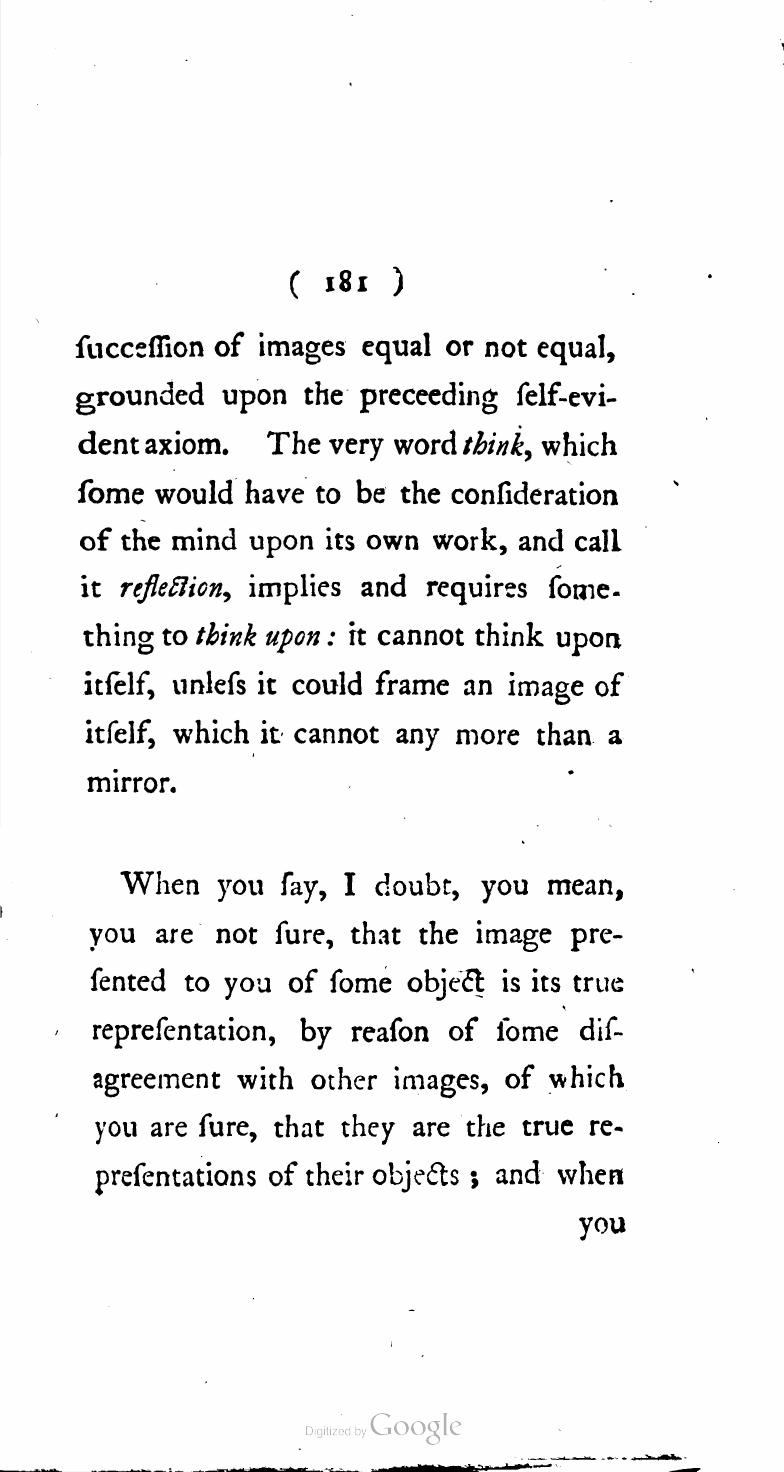bottom_p: (68, 326, 630, 800)
catchword: (576, 1208, 631, 1244)
page_num: (284, 260, 411, 303)
top_p: (82, 858, 633, 1199)
